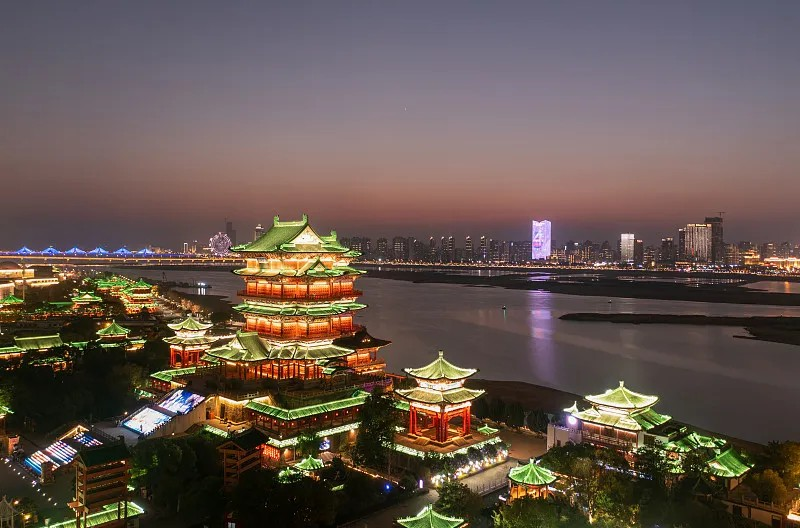Teng: (200, 214, 391, 376)
